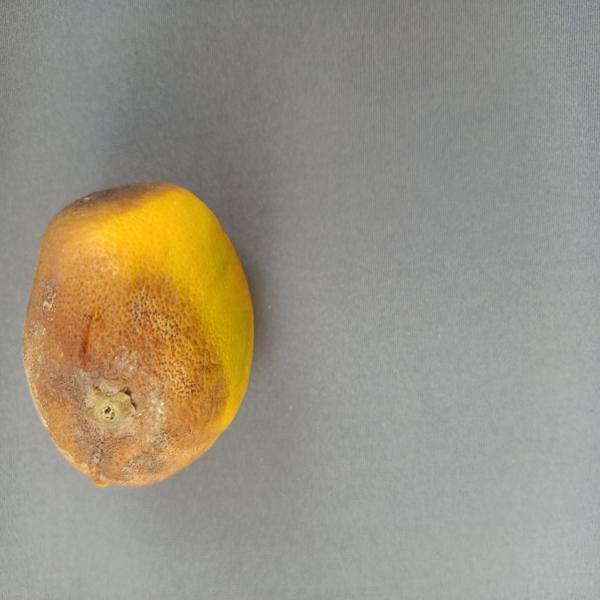Scab: (3, 163, 264, 499)
